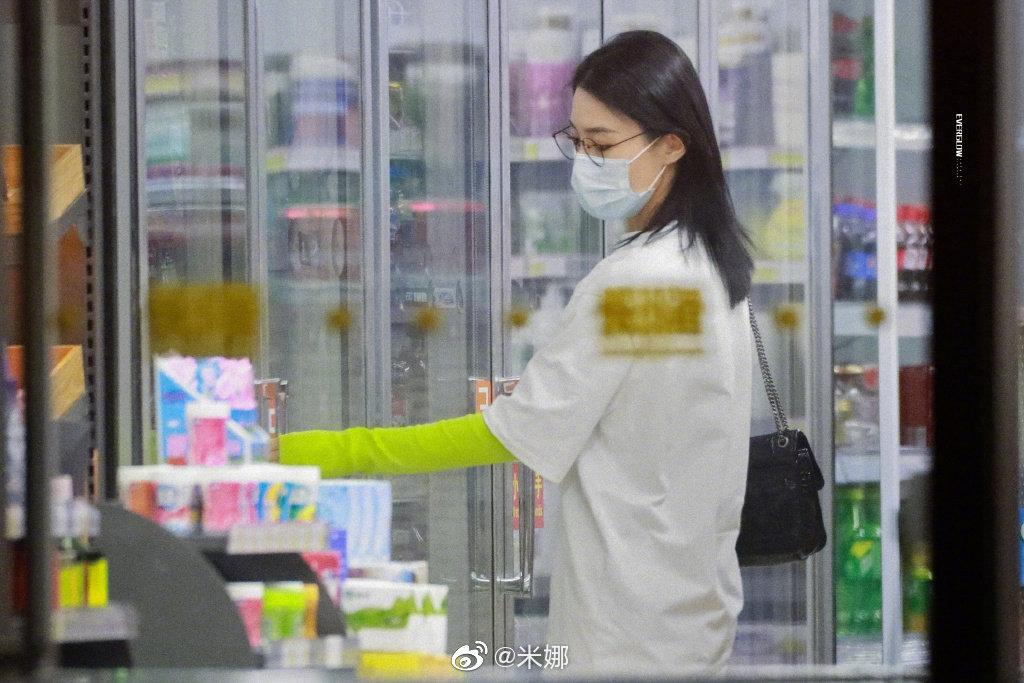OK: (569, 108, 646, 223)
